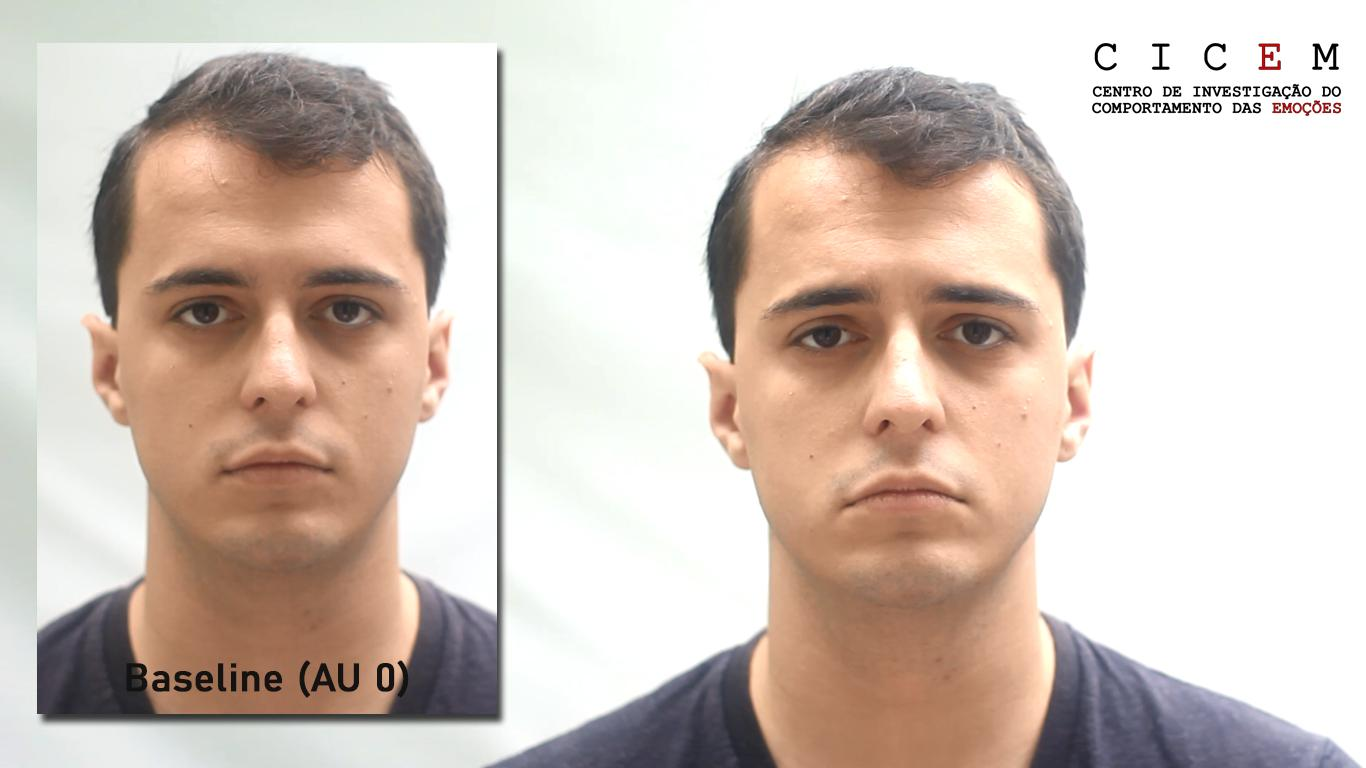normal: (80, 74, 463, 586)
triste: (697, 119, 1116, 613)
